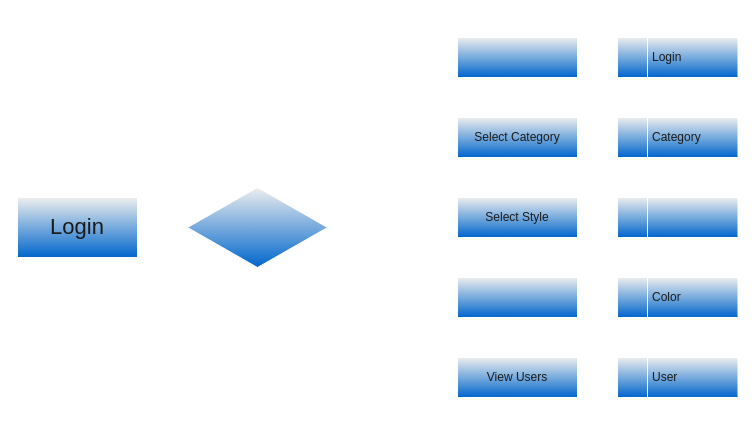
Image size: 755x436. Some labels were removed from this diagram. Here are the shapes that lost their labels. From the top down, the centre of each, then its label:
At [517,57]: "User Login".
At [257,227]: "IsLoggedIn".
At [677,217]: "Style".
At [517,297]: "Manage Color".
